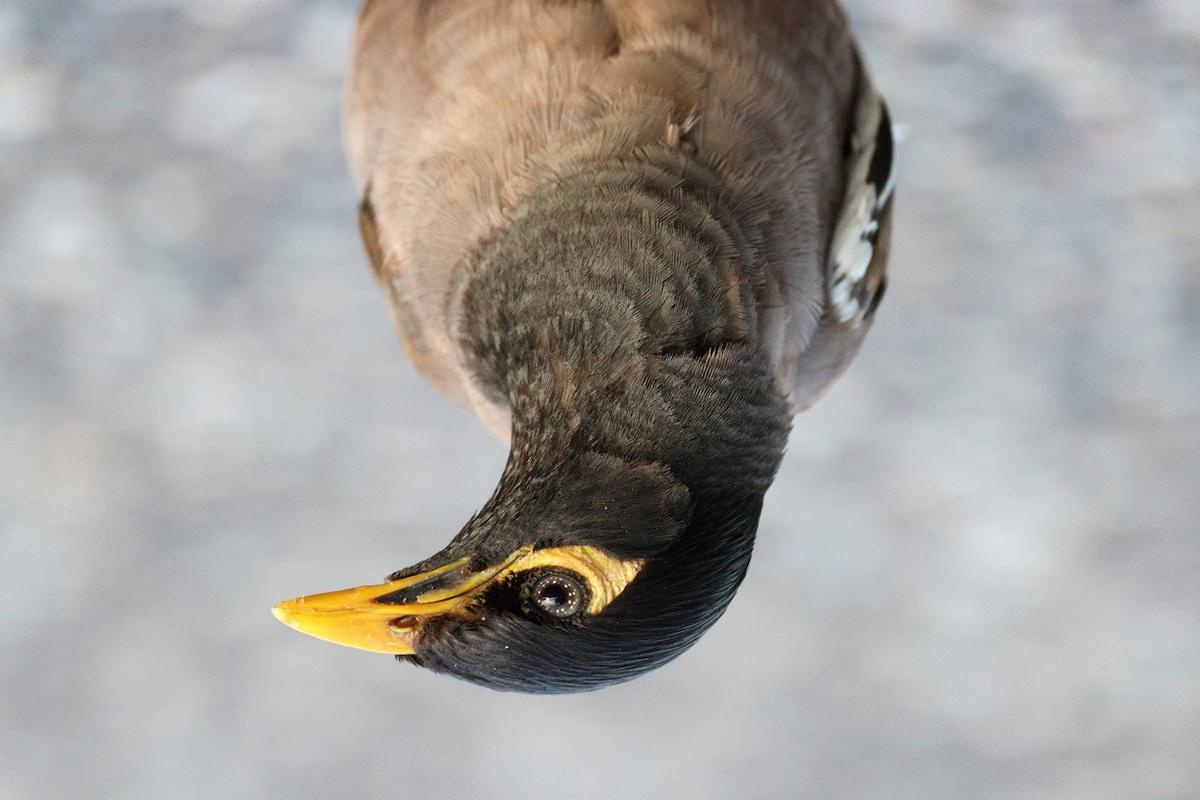myna: (218, 11, 839, 707)
